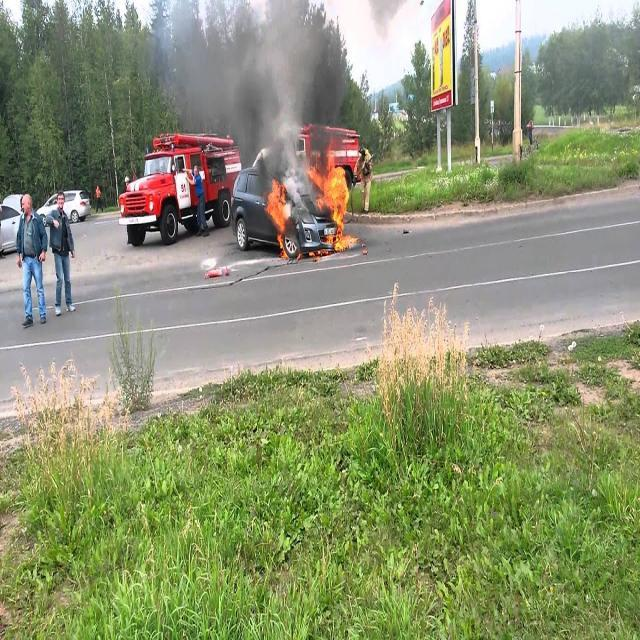Fire: (309, 164, 357, 252), (264, 178, 294, 260)
Smoke: (156, 1, 348, 192)
